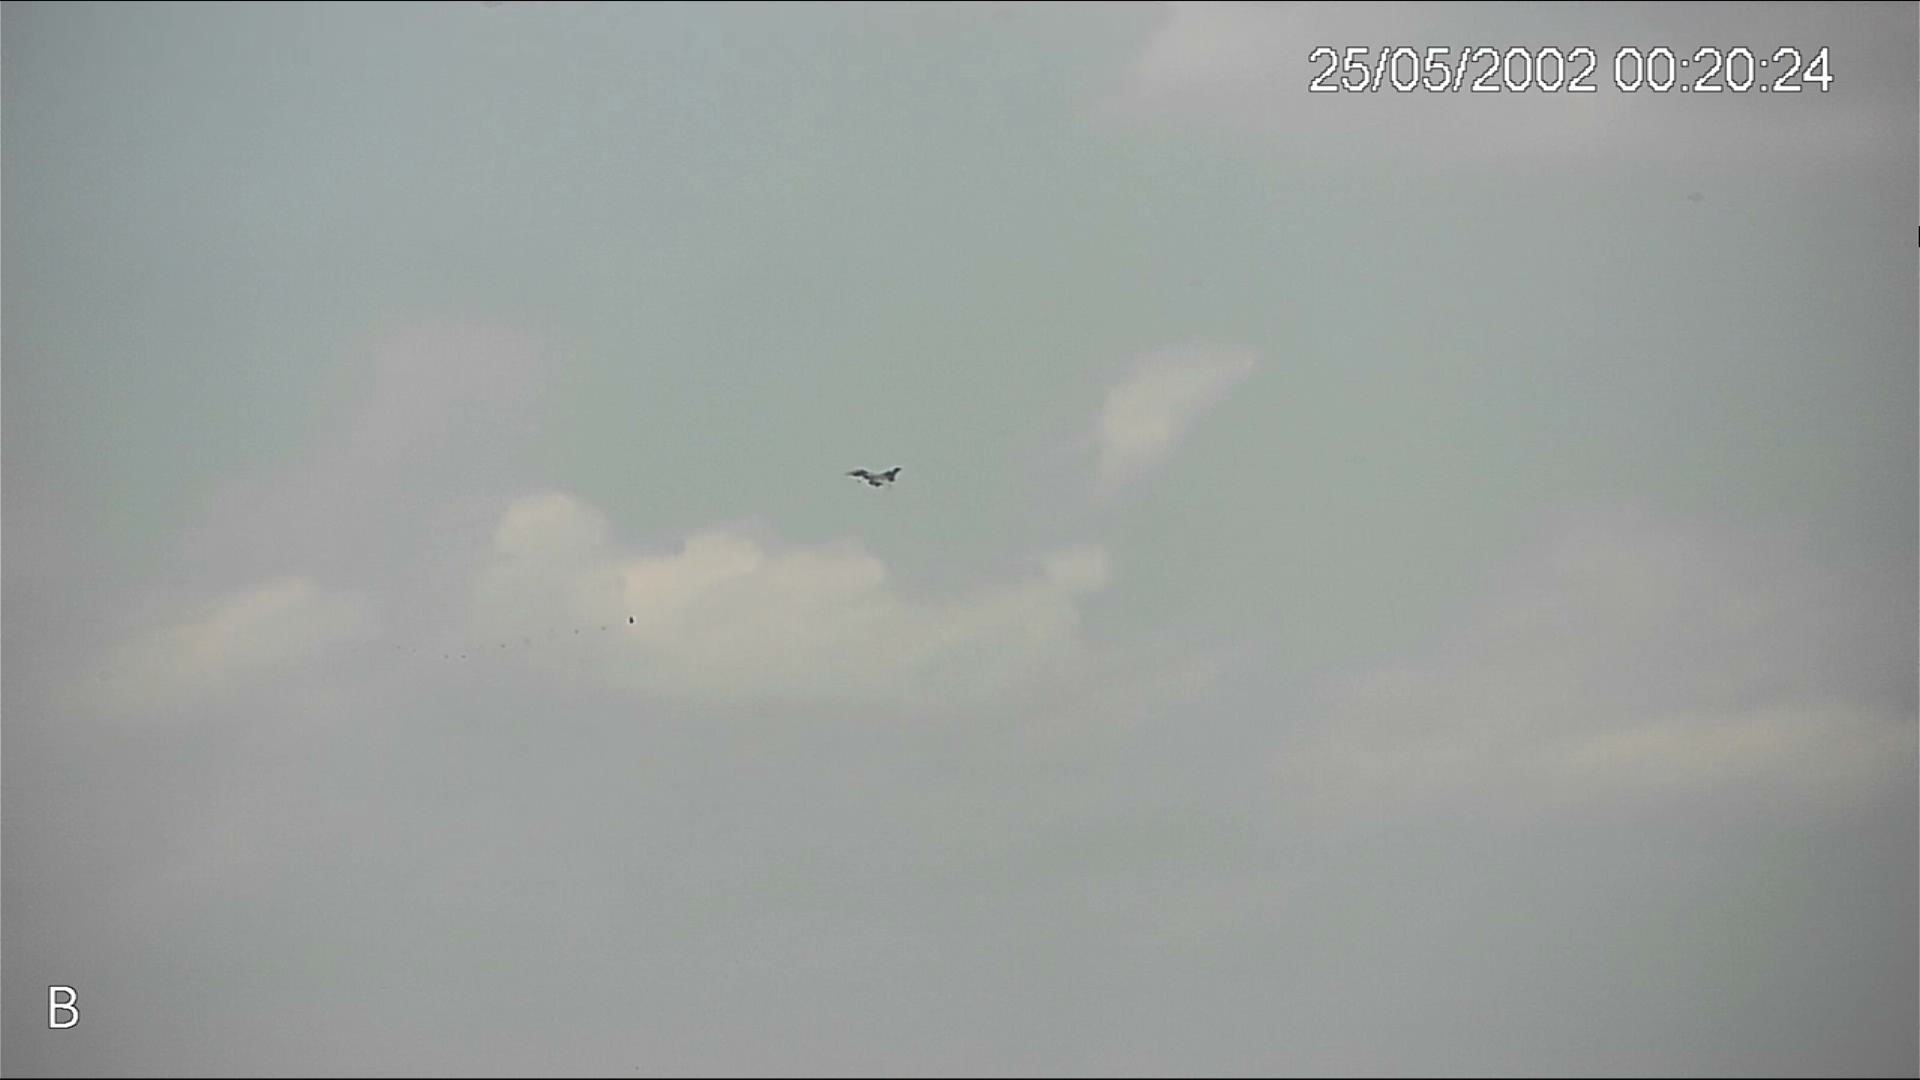SU_30: (847, 464, 905, 488)
